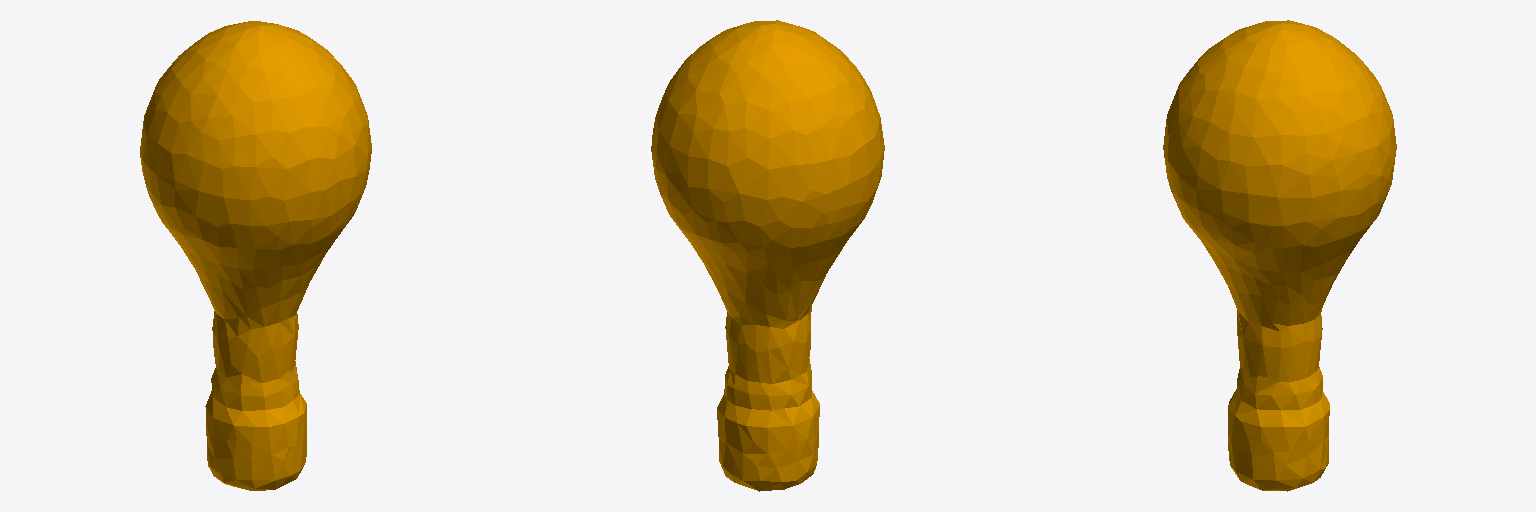
robot.urdf — light_bulb_poisson_000:
<?xml version="1.0"?>
<robot name="light_bulb_poisson_000">
  <link name="base_link">
    <contact>
      <lateral_friction value="1.0"/>
      <rolling_friction value="0.0"/>
      <contact_cfm value="0.0"/>
      <contact_erp value="1.0"/>
    </contact>
    <inertial>
      <mass value="0.130059115814"/>
      <inertia ixx="1" ixy="0" ixz="0" iyy="1" iyz="0" izz="1"/>
    </inertial>
    <visual>
      <geometry>
        <mesh filename="light_bulb_poisson_000_visual.obj"/>
      </geometry>
    </visual>
    <collision>
      <geometry>
        <mesh filename="light_bulb_poisson_000_collision.obj"/>
      </geometry>
    </collision>
  </link>
</robot>

--- Render facts (derived) ---
The picture shows the robot from 3 angles, left to right: view 1: azimuth 30°, elevation 25°; view 2: azimuth 150°, elevation 25°; view 3: azimuth 270°, elevation 25°; orthographic projection.
Robot: light_bulb_poisson_000 — 1 links, 0 joints (none); root link base_link; default pose: every joint at zero.
Visible links, largest first — view 1: base_link; view 2: base_link; view 3: base_link.
Boxes of the visible links, x1=… form: base_link: x1=140, y1=21, x2=371, y2=490; base_link: x1=651, y1=20, x2=884, y2=491; base_link: x1=1163, y1=20, x2=1396, y2=491.
Bounding box of the posed robot: 0.0639 × 0.0641 × 0.1385 m (x, y, z).
1 mesh visuals loaded from 1 distinct referenced files (1 OBJ).